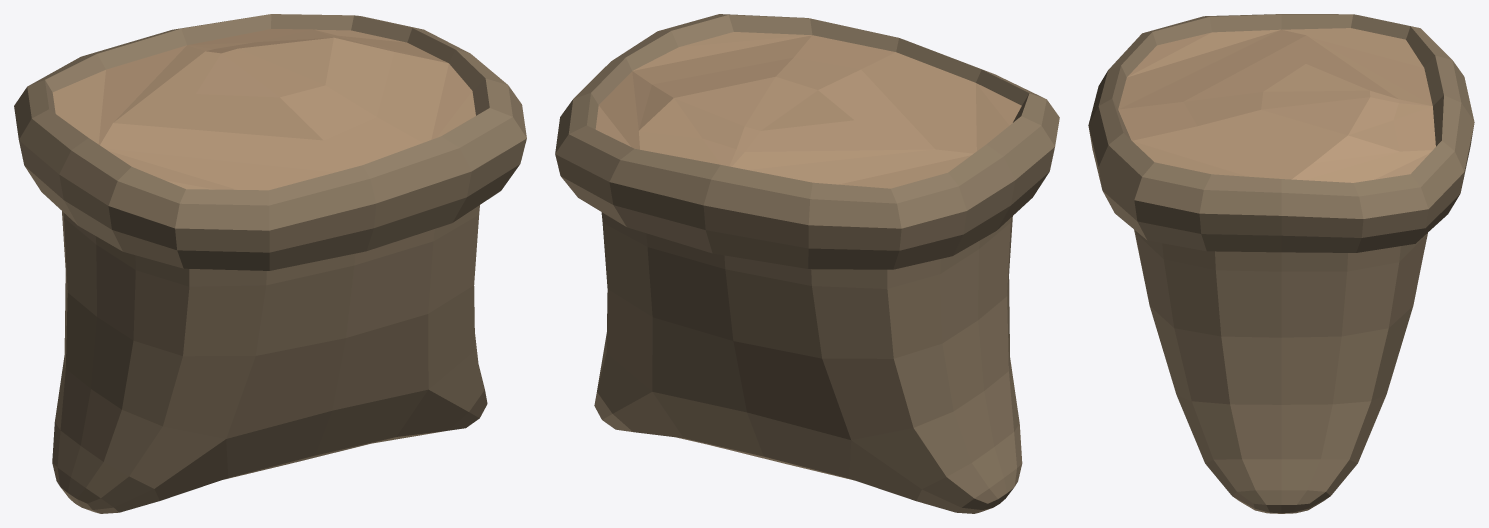
Rendered from SM_Props_Farm_GrainBag_Open.fbx.
3 renders of one model, left to right at view 1: azimuth 30°, elevation 25°; view 2: azimuth 150°, elevation 25°; view 3: azimuth 270°, elevation 25°, orthographic. The views are drawn at different scales.
Visible parts, largest first — view 1: SM_Props_Farm_GrainBag_Open; view 2: SM_Props_Farm_GrainBag_Open; view 3: SM_Props_Farm_GrainBag_Open.
Boxes of the visible parts, left/top/right/bottom form: SM_Props_Farm_GrainBag_Open: left=14, top=14, right=526, bottom=513; SM_Props_Farm_GrainBag_Open: left=555, top=14, right=1059, bottom=513; SM_Props_Farm_GrainBag_Open: left=1088, top=14, right=1474, bottom=513.
Bounding box in the file's own units: 100 × 84.81 × 86.65.
